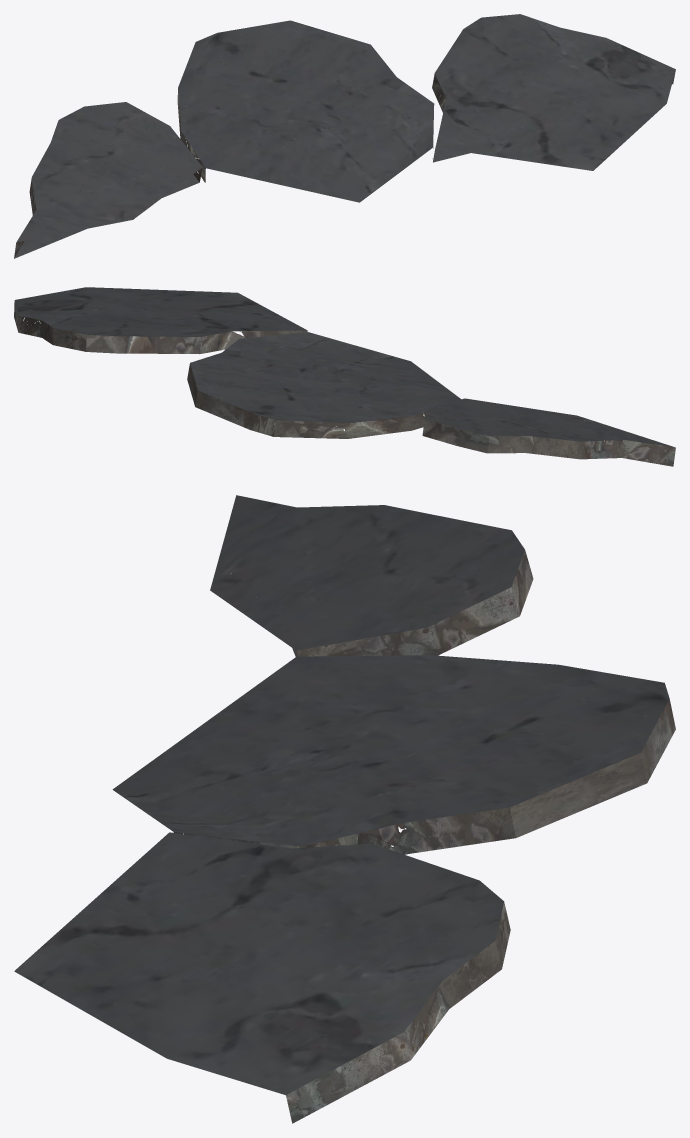
3 views of the same model, one above another, from view 1: azimuth 30°, elevation 25°; view 2: azimuth 150°, elevation 25°; view 3: azimuth 270°, elevation 25° (orthographic). The views are drawn at different scales.
Parts seen in each view (by area): view 1: SM_Kuldra_Floor_Dmg_04_LOD0; view 2: SM_Kuldra_Floor_Dmg_04_LOD0; view 3: SM_Kuldra_Floor_Dmg_04_LOD0.
Boxes of the visible parts, x1,y1,x2,y2 form: SM_Kuldra_Floor_Dmg_04_LOD0: (14,14,675,258); SM_Kuldra_Floor_Dmg_04_LOD0: (14,287,675,466); SM_Kuldra_Floor_Dmg_04_LOD0: (14,495,675,1123).
Bounding box in the file's own units: 4.23 × 0.3897 × 1.98.
Materials: 2 (2 with a texture image).
